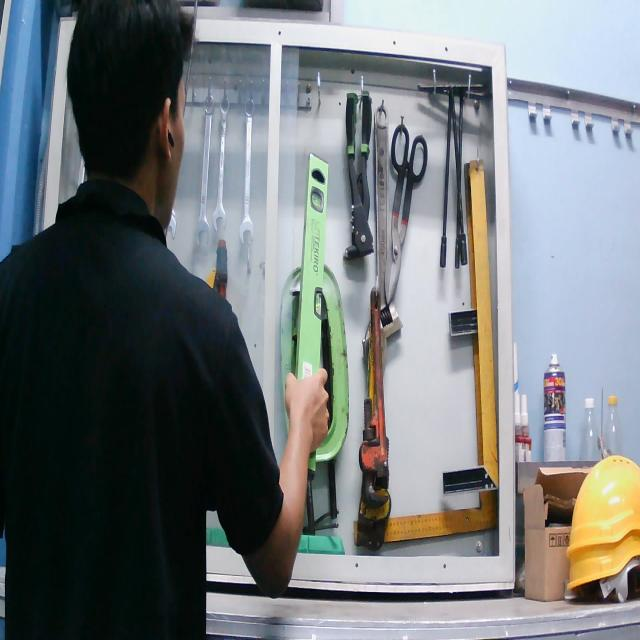water_pass: (292, 145, 330, 482)
